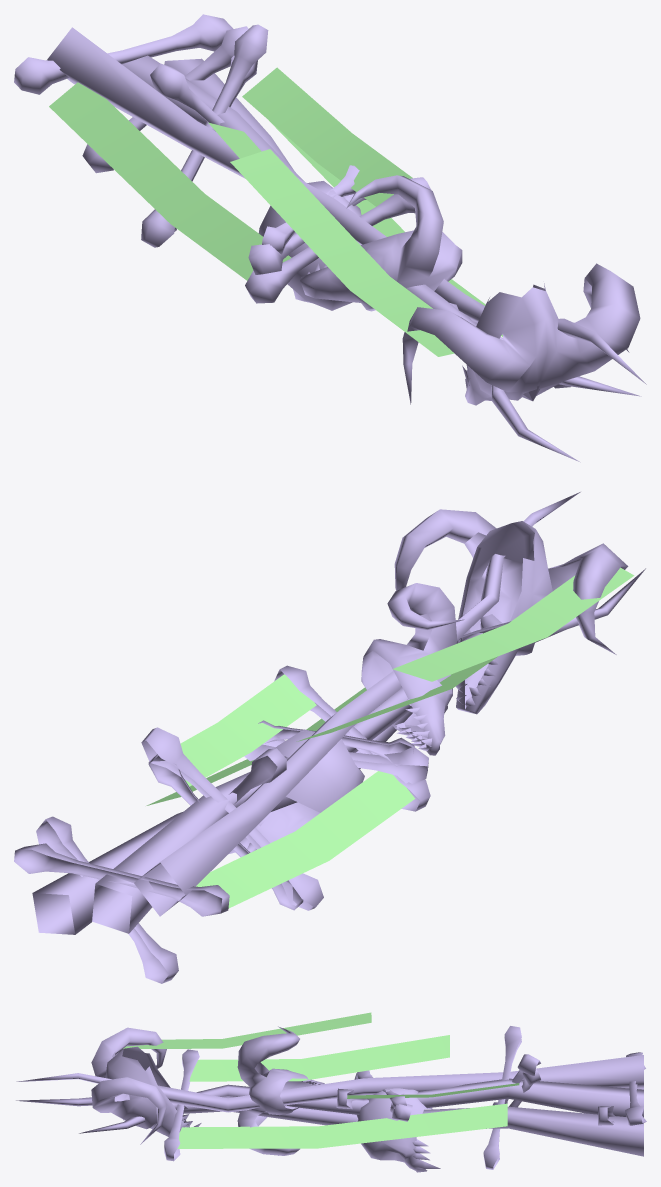
The picture shows the model from 3 angles, top to bottom: view 1: azimuth 30°, elevation 25°; view 2: azimuth 150°, elevation 25°; view 3: azimuth 270°, elevation 25°; orthographic projection. The views are drawn at different scales.
Visible parts, largest first — view 1: Object72; view 2: Object72; view 3: Object72.
Boxes of the visible parts, bbox=[...] form: Object72: bbox=[14, 14, 646, 462]; Object72: bbox=[14, 492, 645, 983]; Object72: bbox=[16, 1012, 646, 1172].
Bounding box in the file's own units: 11593 × 10511 × 46357.
